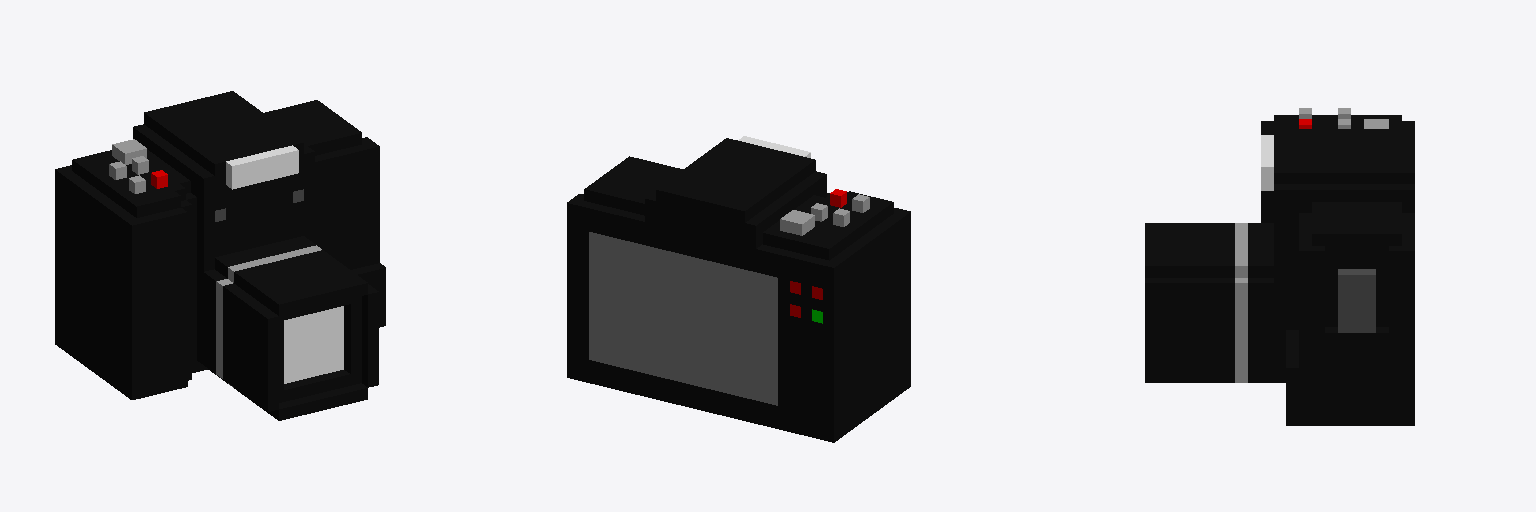
The picture shows the model from 3 angles: view 1: azimuth 30°, elevation 25°; view 2: azimuth 150°, elevation 25°; view 3: azimuth 270°, elevation 25°; orthographic projection.
Parts seen in each view (by area): view 1: object 1; view 2: object 1; view 3: object 1.
Part boxes in pixels (x1,y1,x2,y2): object 1: (55,91,385,420); object 1: (567,136,910,442); object 1: (1145,108,1414,425).
Size of the model in its own units: 2.4 by 1.8 by 2.1.
Materials: 1 (1 with a texture image).